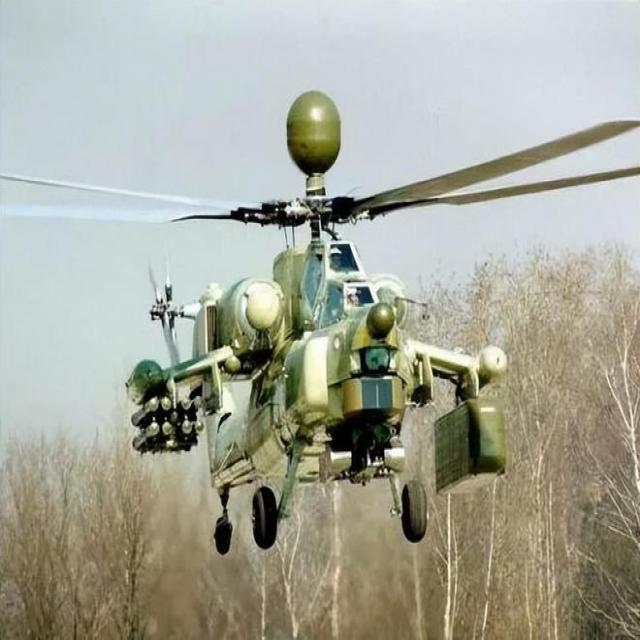MIL_HELO: (40, 75, 630, 562)
